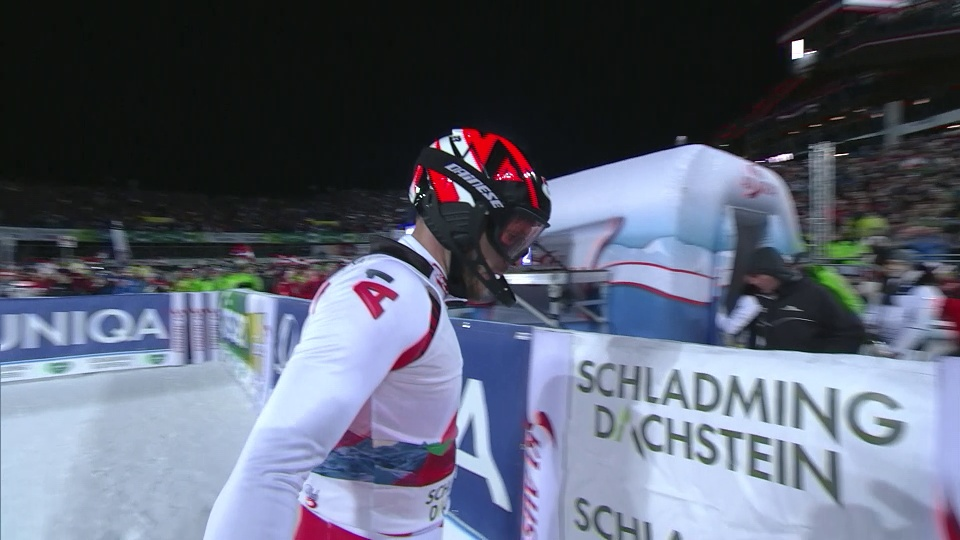a1: (354, 267, 402, 324)
schladming: (568, 324, 913, 500)
uniqa: (10, 297, 172, 359)
